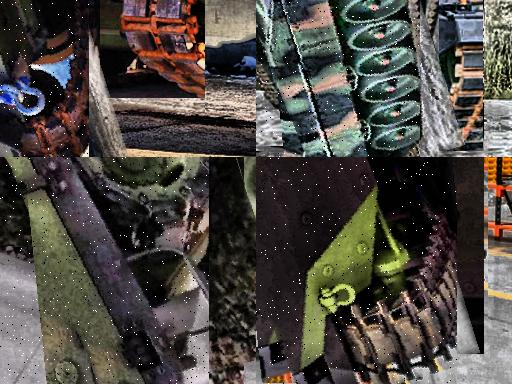tanks: (2, 158, 209, 384), (257, 158, 457, 384), (257, 1, 421, 158), (1, 1, 89, 158)
